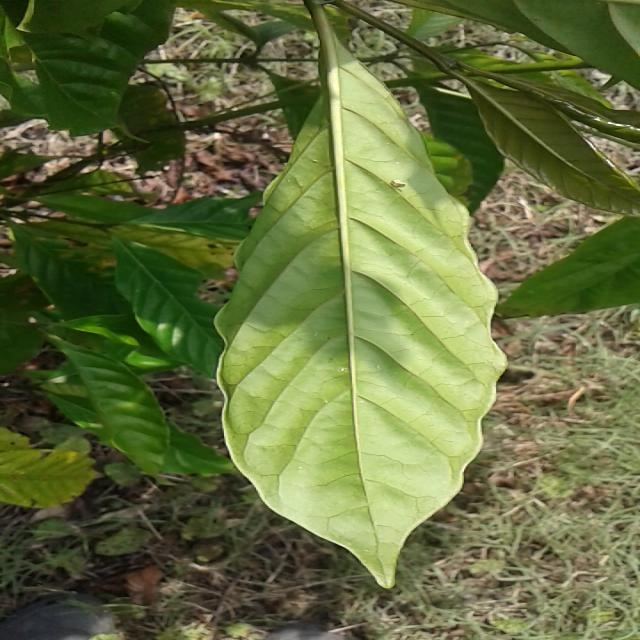Sanas: (212, 0, 508, 592)
